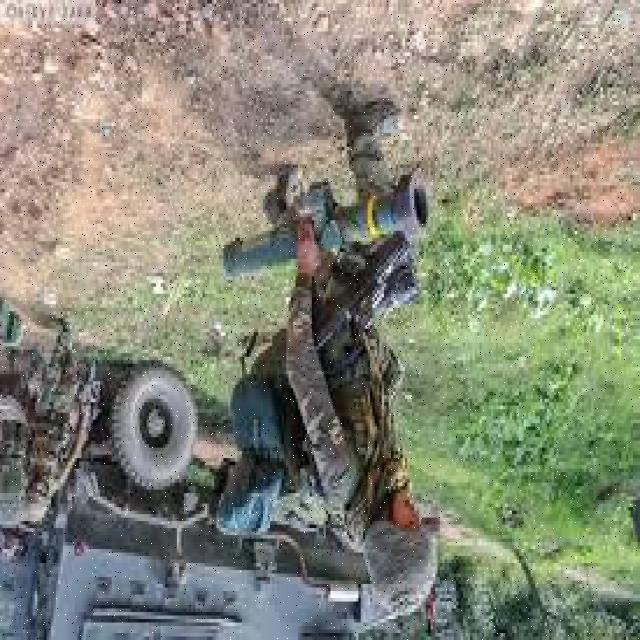bazooka: (218, 168, 436, 288)
